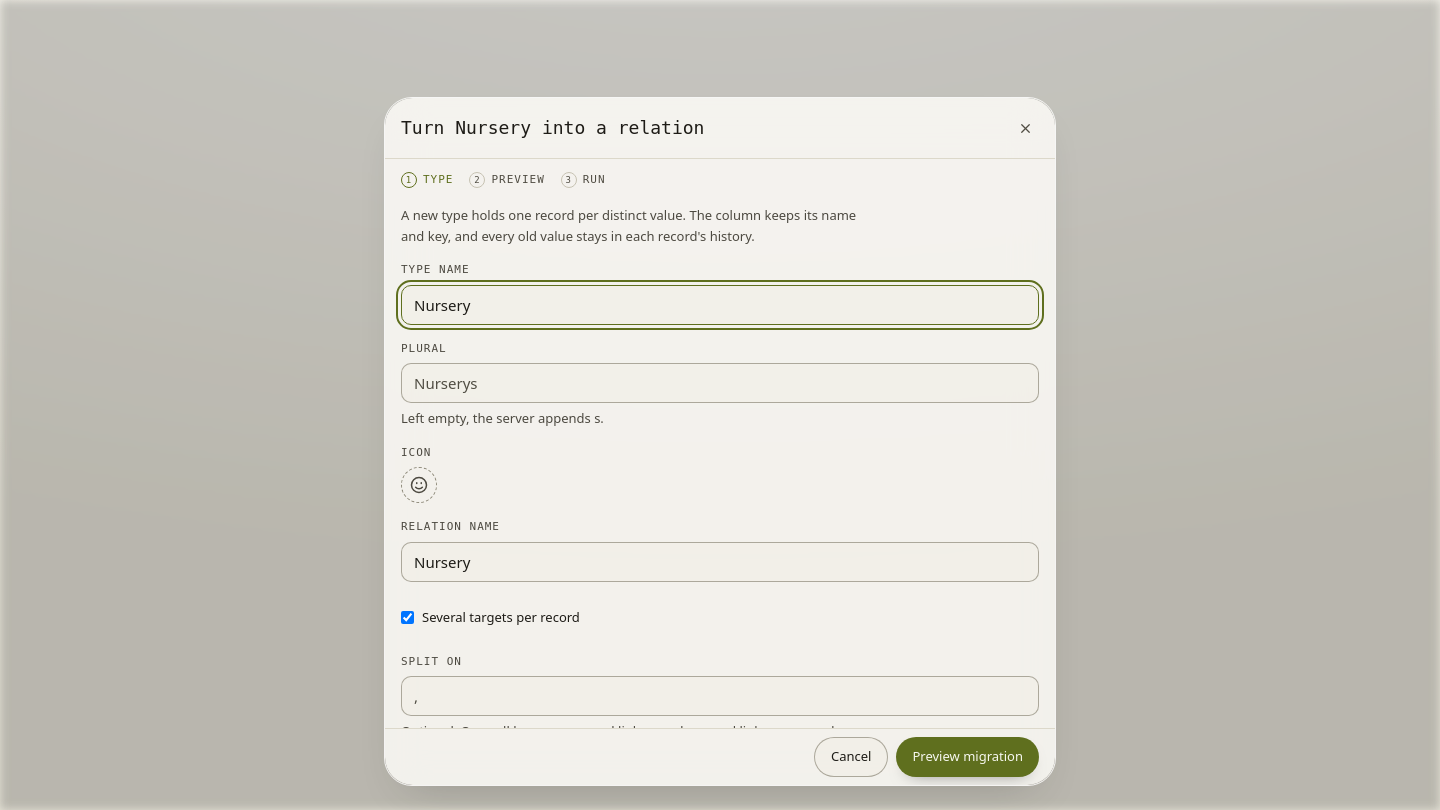
PromoteColumnDialog › previews counts, values, view changes and the CSV backup
Click the button "Preview migration" at {"x": 968, "y": 757}, box [896,737,1039,777]
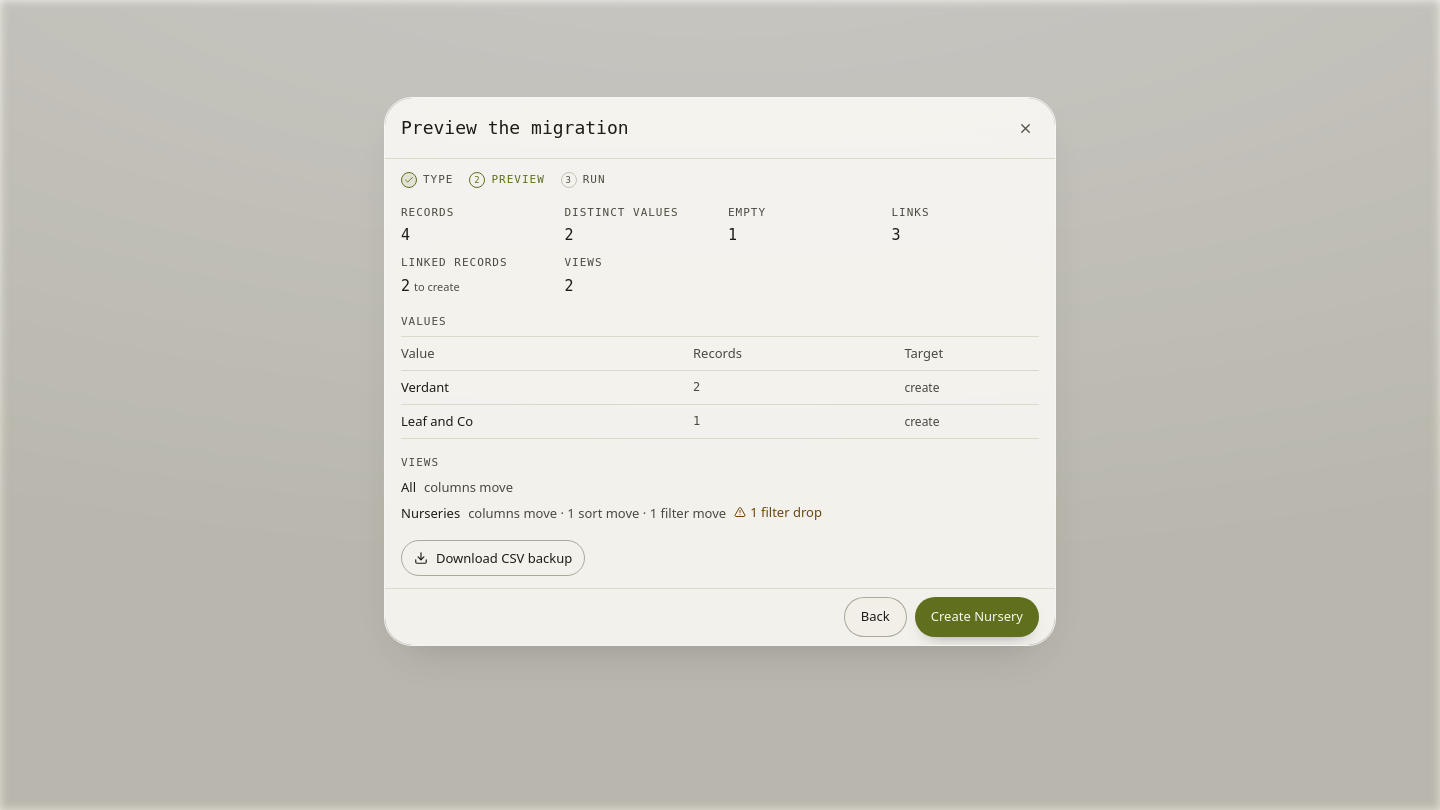
expect the text "Distinct values" is shown: met, box [564,206,679,219]
expect the text "1" is shown: met, box [728,226,737,244]
expect the text "3" below "Links" is shown: met, box [892,226,900,244]
